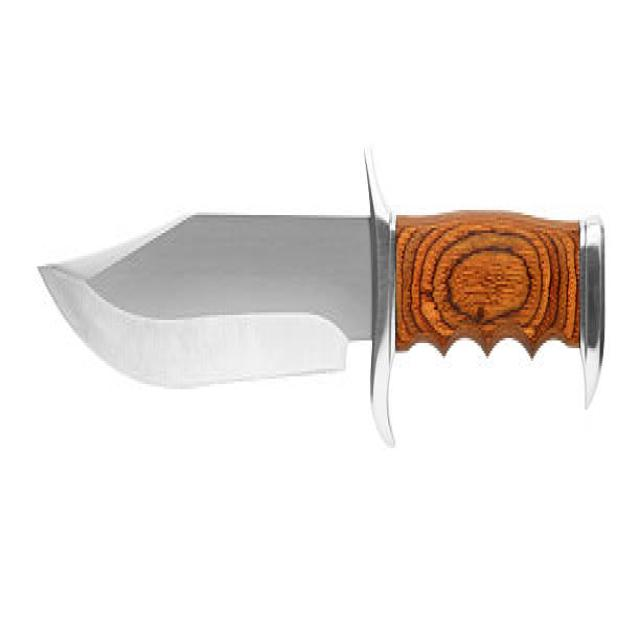knife: (33, 129, 614, 458)
